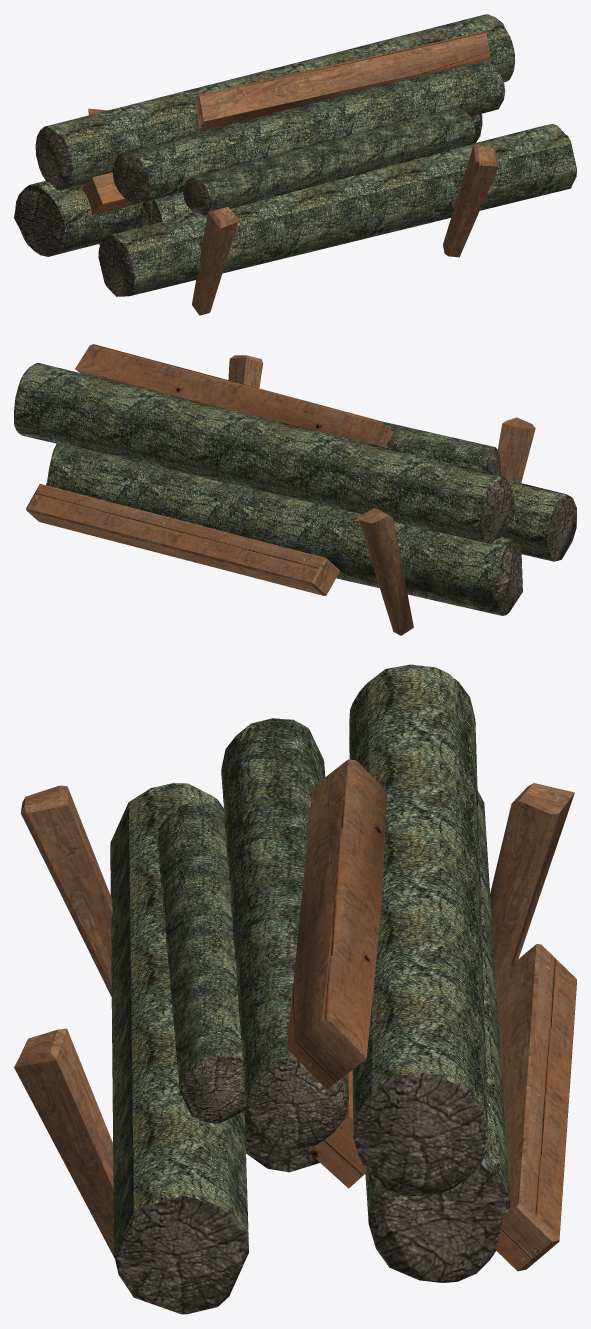
File: woodpile.fbx
3 renders of one model, top to bottom at view 1: azimuth 30°, elevation 25°; view 2: azimuth 150°, elevation 25°; view 3: azimuth 270°, elevation 25°, orthographic. The views are drawn at different scales.
Parts seen in each view (by area): view 1: woodpile_LOD0; view 2: woodpile_LOD0; view 3: woodpile_LOD0.
Part boxes in pixels (left/top/right/bottom): woodpile_LOD0: left=14, top=14, right=576, bottom=315; woodpile_LOD0: left=14, top=344, right=576, bottom=635; woodpile_LOD0: left=14, top=664, right=576, bottom=1314.
Size of what is drawn, in the model's own units: 13.97 by 4.62 by 7.49.
